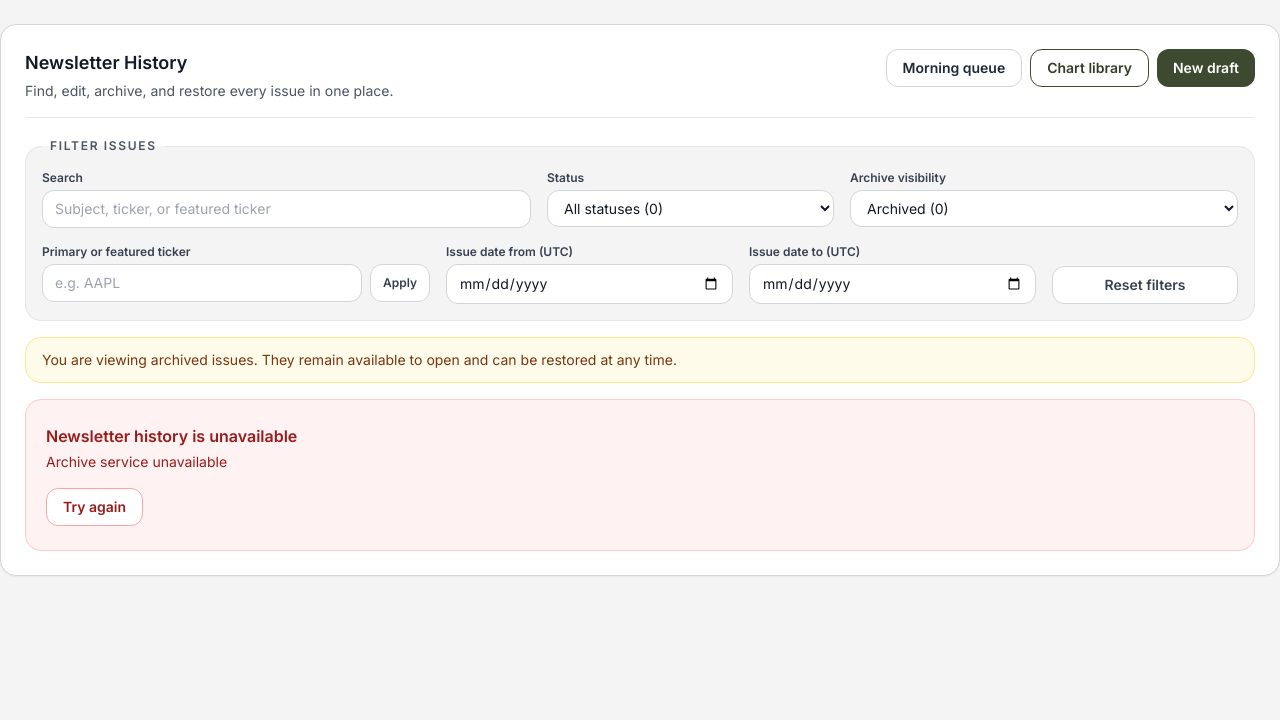
Test: NewsletterDraftsHome › shows archived empty and request error states with recovery actions
Check: the message shows "Archive service unavailable", box [46,453,227,470]
Step 1. Click the button "Try again" → (95,507), box [46,488,143,526]
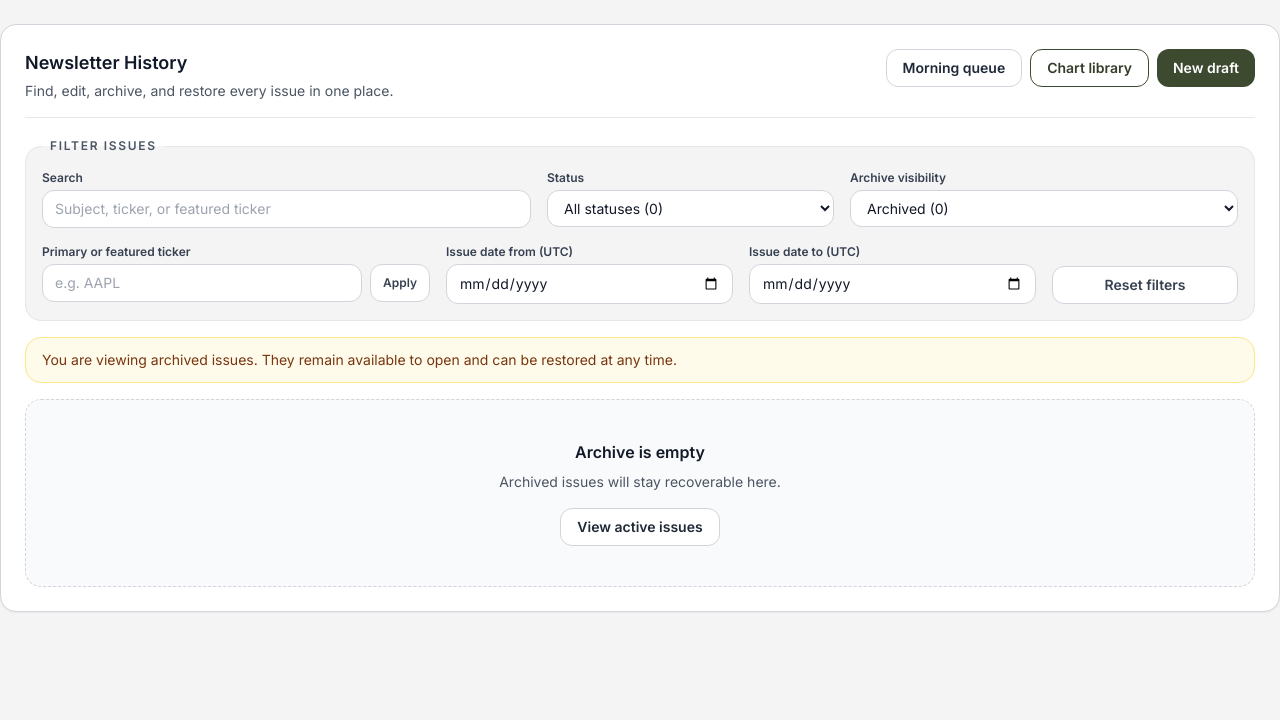
Check: the heading "Archive is empty" is shown, box [575,442,705,462]
Check: the button "View active issues" is shown, box [560,508,720,546]
